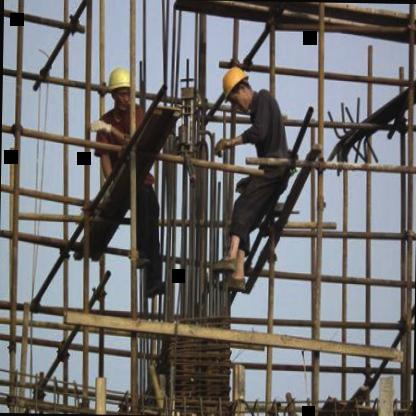helmet: (101, 62, 136, 115), (217, 62, 255, 110)
